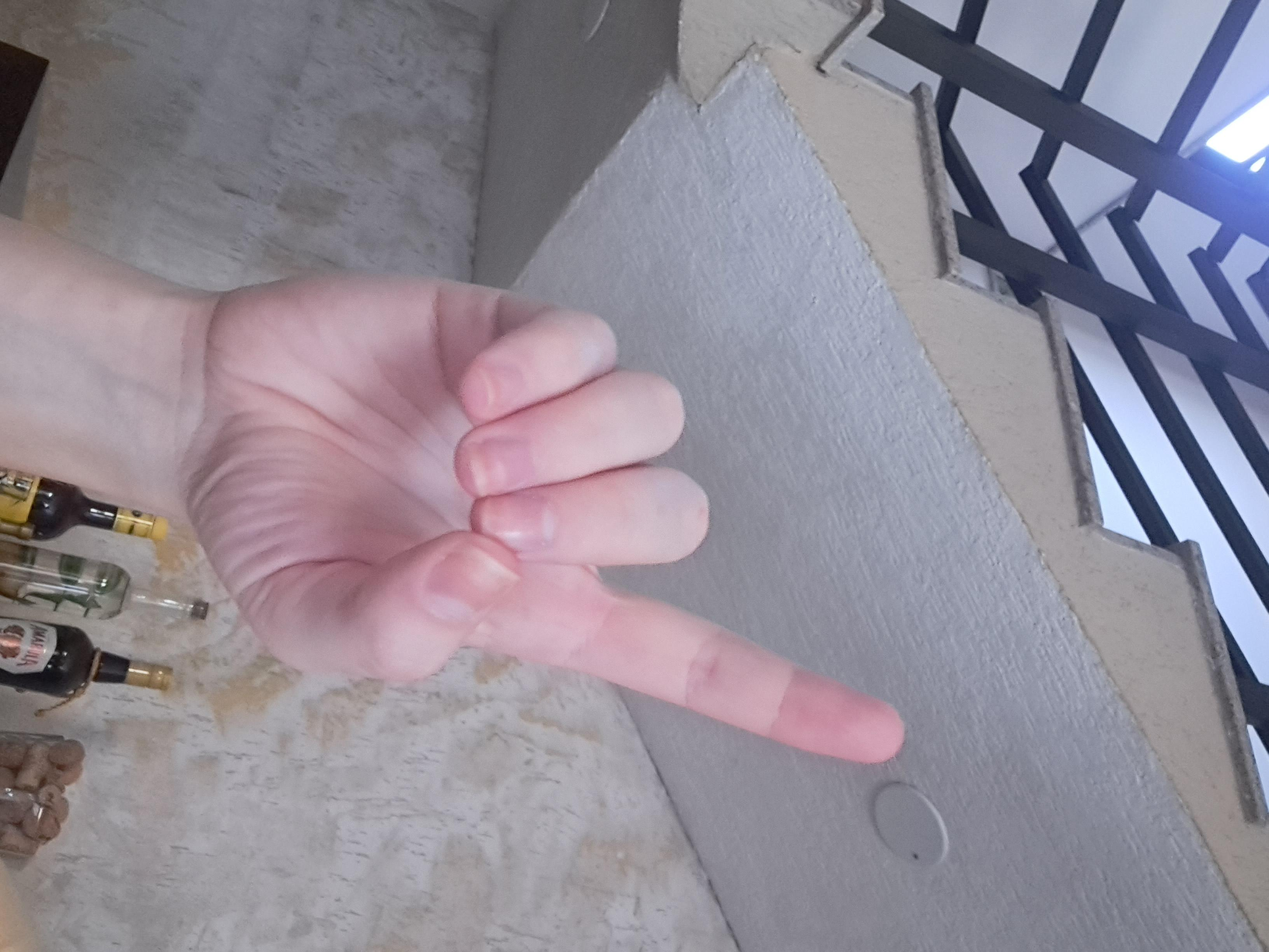D2: (332, 260, 1037, 799)
